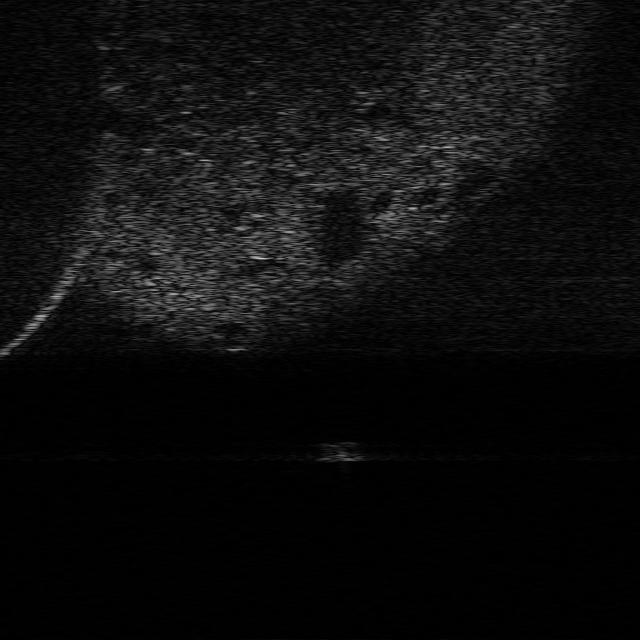cube: (318, 438, 368, 464)
